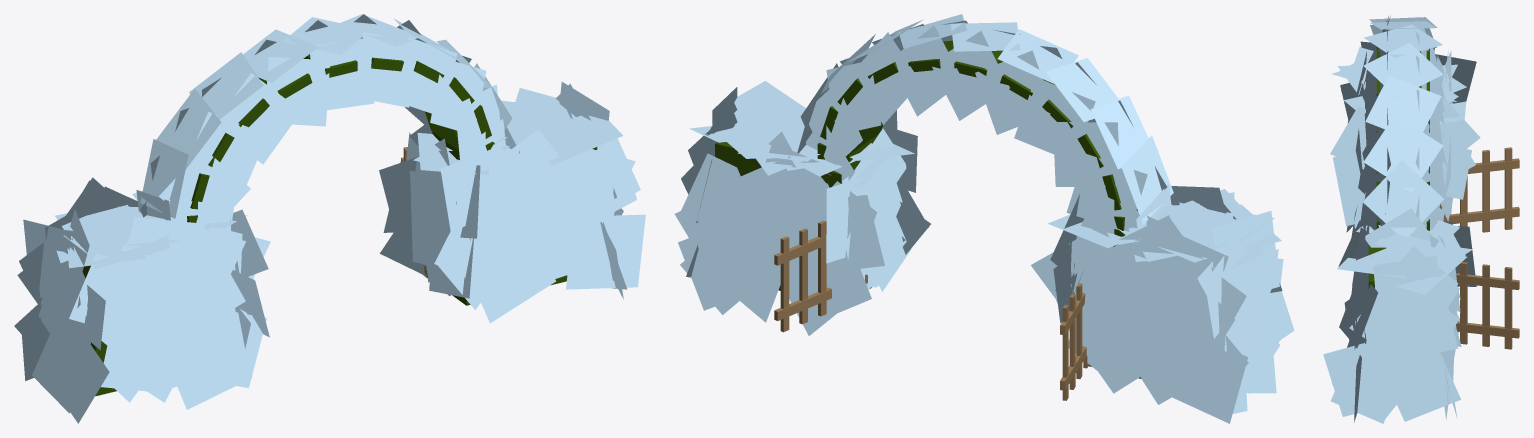
The model's file is hedge_gate.gltf.
3 renders of one model, left to right at view 1: azimuth 30°, elevation 25°; view 2: azimuth 150°, elevation 25°; view 3: azimuth 270°, elevation 25°, orthographic. The views are drawn at different scales.
Parts seen in each view (by area): view 1: hedge_gate_Leaf_Hedge, hedge_gate_Core_Hedge; view 2: hedge_gate_Leaf_Hedge, hedge_gate_Trellis_Wood, hedge_gate_Core_Hedge; view 3: hedge_gate_Leaf_Hedge, hedge_gate_Trellis_Wood, hedge_gate_Core_Hedge.
Boxes of the visible parts, bbox=[...] form: hedge_gate_Leaf_Hedge: bbox=[14, 14, 645, 423]; hedge_gate_Core_Hedge: bbox=[82, 54, 597, 396]; hedge_gate_Leaf_Hedge: bbox=[674, 14, 1294, 423]; hedge_gate_Trellis_Wood: bbox=[774, 220, 1088, 400]; hedge_gate_Core_Hedge: bbox=[715, 40, 1141, 378]; hedge_gate_Leaf_Hedge: bbox=[1323, 15, 1480, 423]; hedge_gate_Trellis_Wood: bbox=[1439, 147, 1519, 349]; hedge_gate_Core_Hedge: bbox=[1368, 46, 1429, 288].
Bounding box in the file's own units: 6.57 × 3.57 × 2.21.
